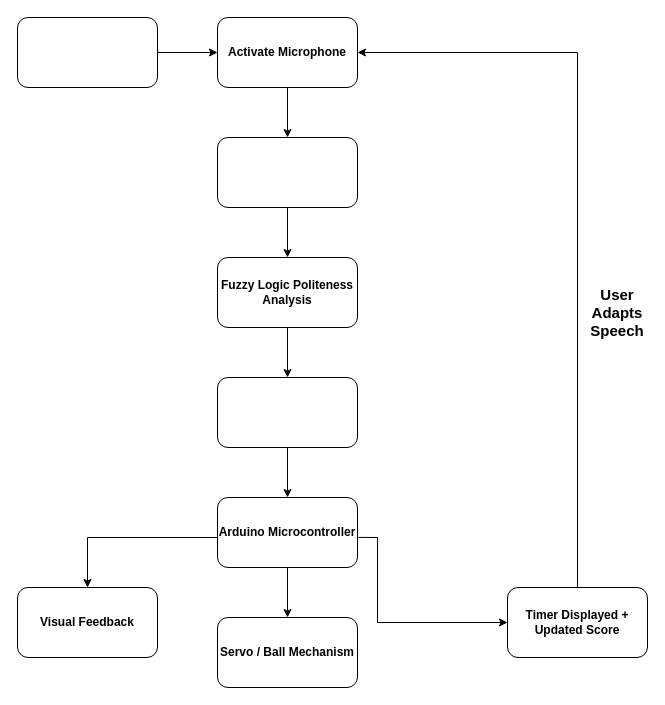
Image size: 665x705. Some labels were removed from this diagram. The centre of each missing label's shape, as x and y in pixels:
Politeness Score Generated: (287,412)
Speech Recognition VOSK: (287,172)
Start Button Start Game: (87,52)
